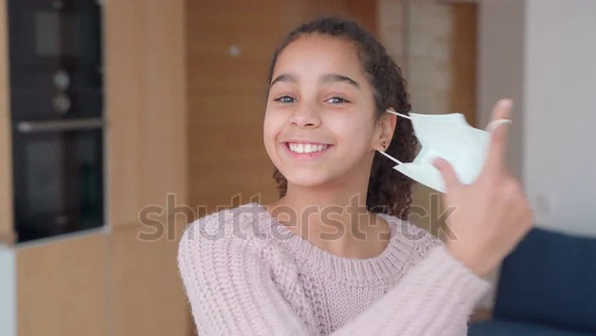No Mask: (257, 116, 371, 188)
